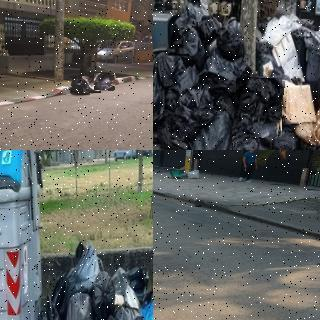Garbage: (234, 77, 284, 138), (189, 108, 232, 150), (215, 17, 244, 61), (92, 276, 114, 317), (64, 291, 91, 320), (232, 135, 272, 150), (94, 74, 116, 91), (71, 77, 91, 95), (297, 137, 320, 150), (83, 77, 101, 93), (170, 171, 186, 179), (186, 171, 199, 179)
